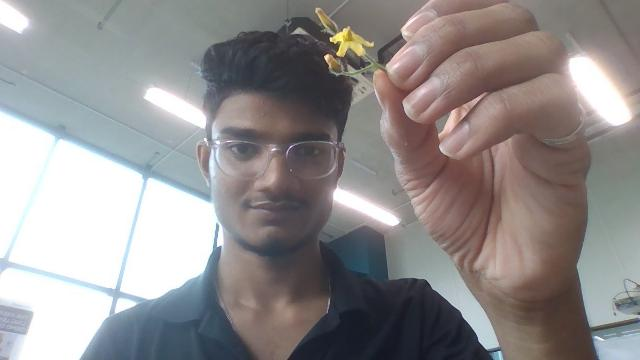Anthesis: (330, 23, 376, 60), (330, 26, 375, 59), (314, 5, 334, 34), (322, 51, 345, 76), (315, 7, 337, 33), (324, 53, 343, 75)
